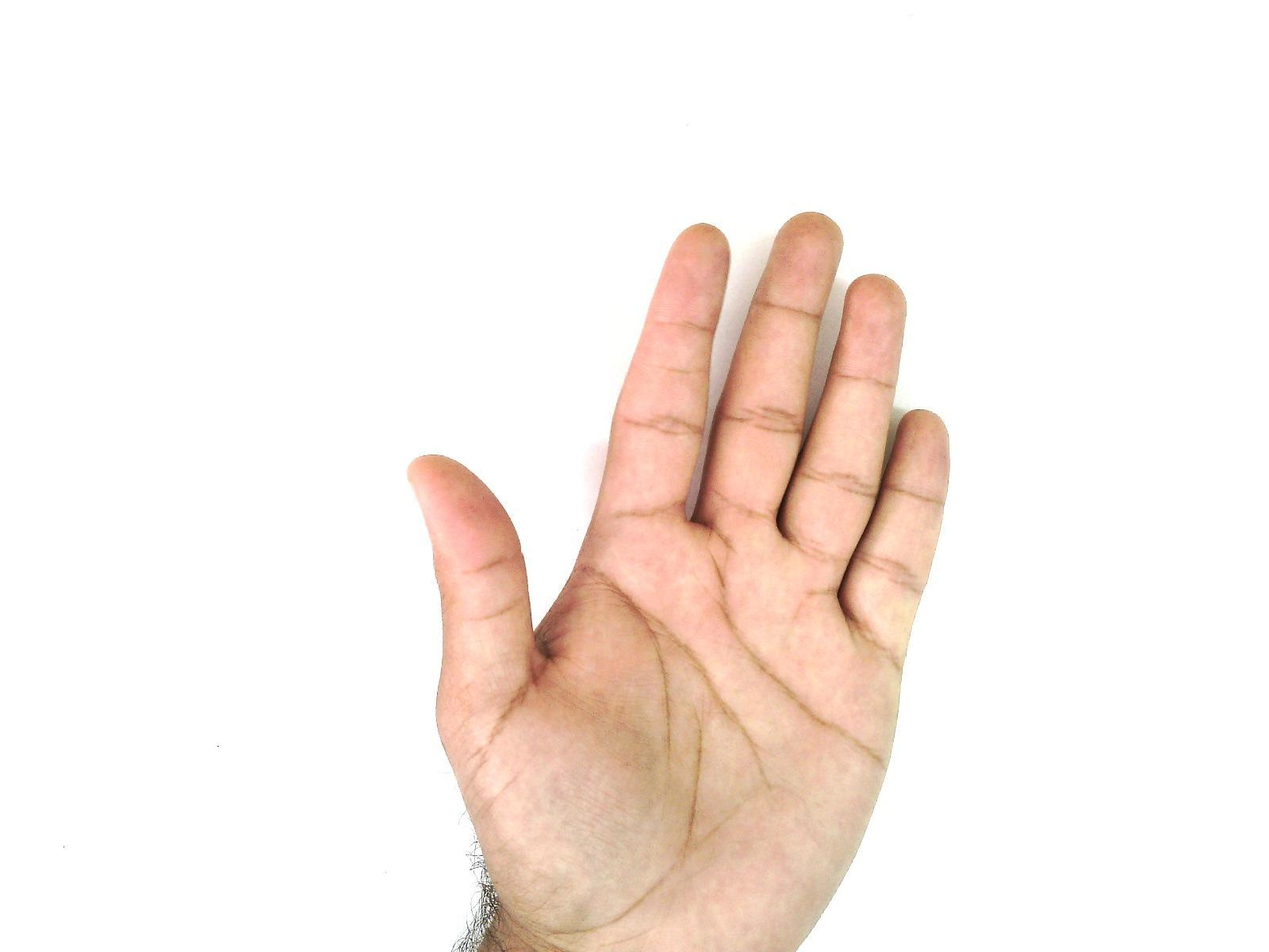open_palm: (404, 210, 953, 951)
